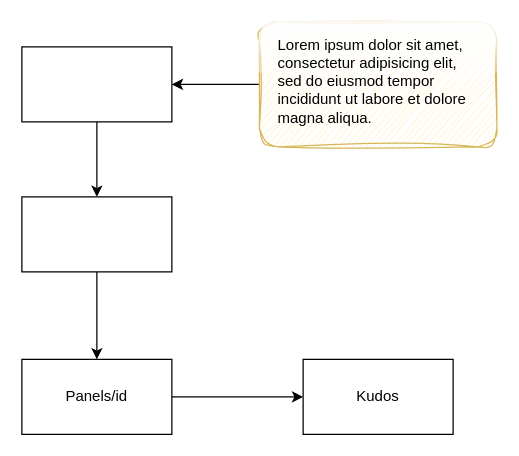
The diagram is 519 pixels wide and 456 high, and some of its shapes have lost their labels. Here are the shapes that lost their labels. From the top down, the centre of each, then its label:
At [96,84]: "Autenticação".
At [96,234]: "Panels".
